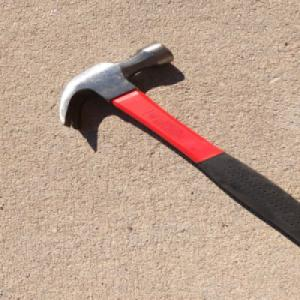Hammer: (54, 40, 300, 249)
